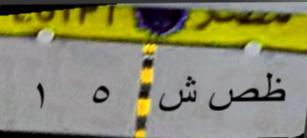1: (31, 78, 50, 115)
5: (86, 77, 111, 110)
Thaa: (260, 68, 288, 108)
saad: (207, 80, 261, 120)
sheen: (155, 75, 198, 116)
